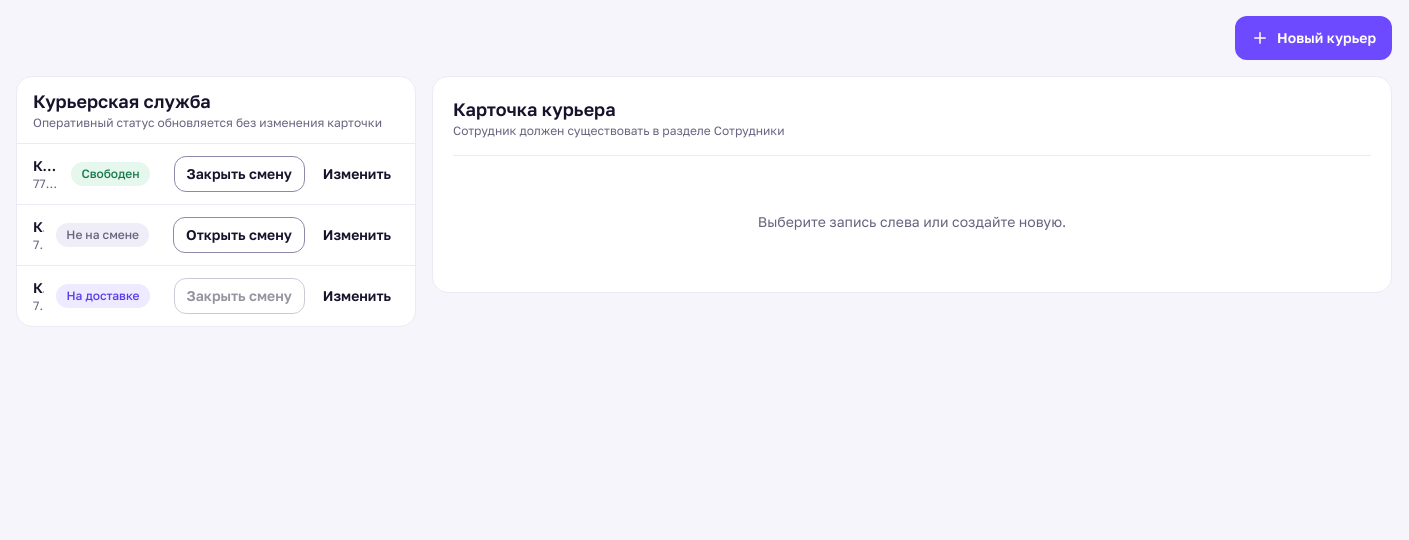
Test: «Курьеры» (W2-DLV-07, office/61) › «Ввести новый номер» clears a hidden phone, and a new one is checked
The width and height of the screenshot is (1409, 540).
Click the 1st button "Изменить" at (357, 174), box x1=311 y1=156 x2=403 y2=192
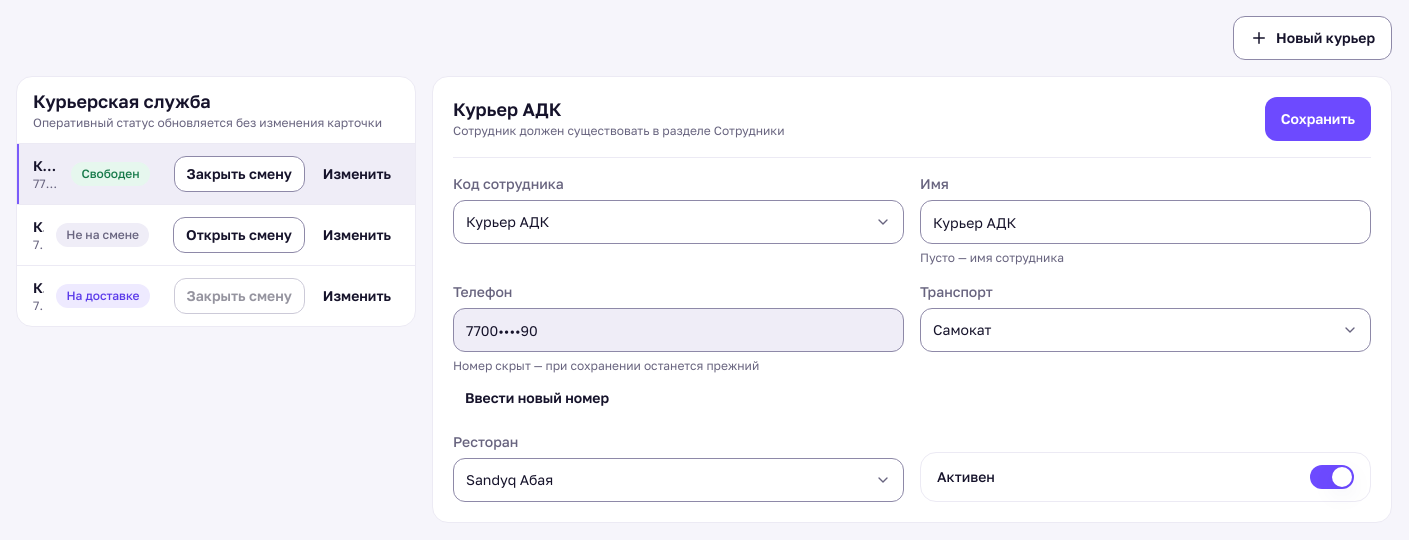
Click the button "Ввести новый номер" at (537, 398), box x1=453 y1=380 x2=621 y2=416
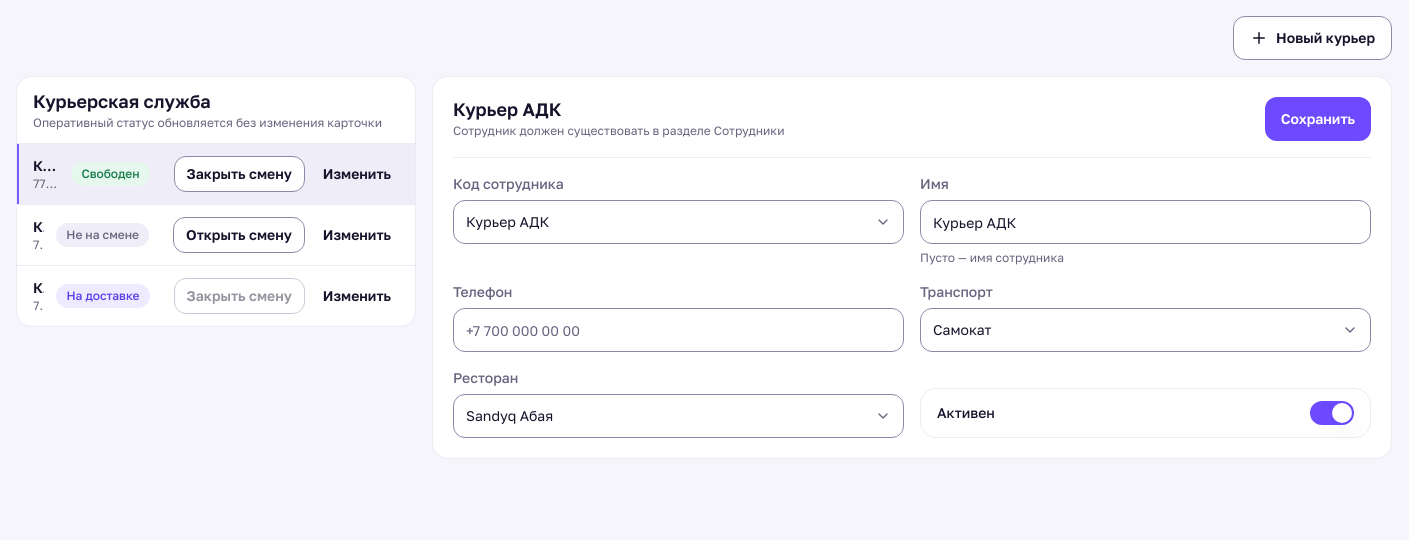
Result: the field labelled "Телефон" is empty at x1=453 y1=308 x2=904 y2=352
Click the button "Сохранить" at (1318, 119), box x1=1265 y1=97 x2=1371 y2=141
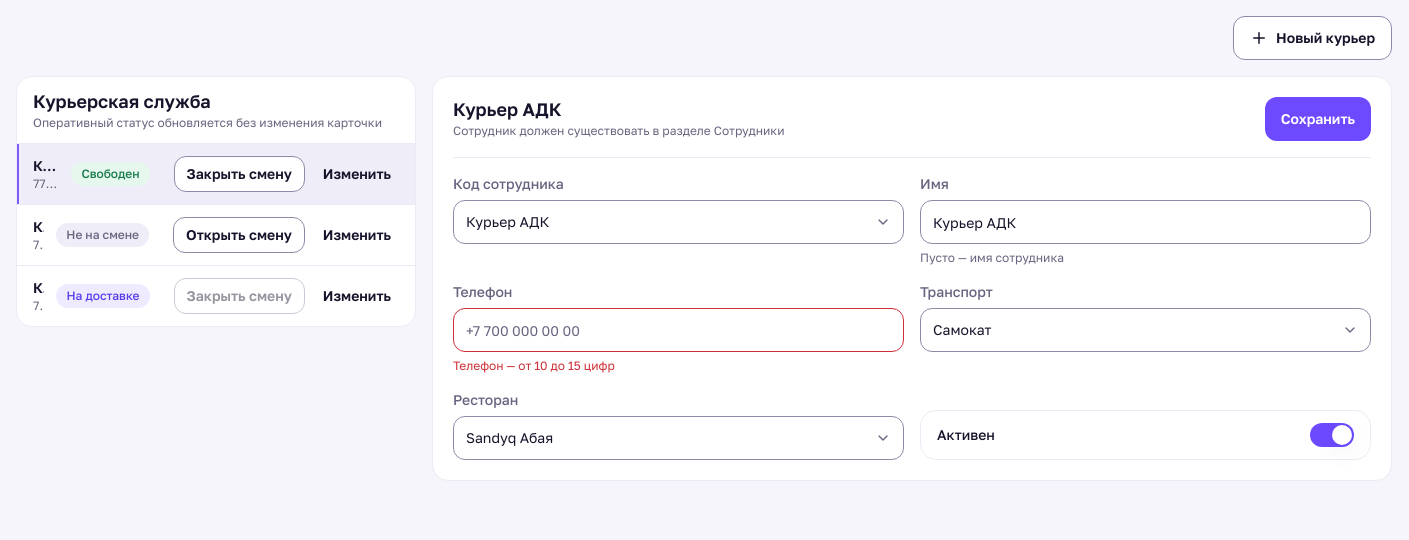
Result: the text "Телефон — от 10 до 15 цифр" is shown at x1=453 y1=358 x2=615 y2=373
